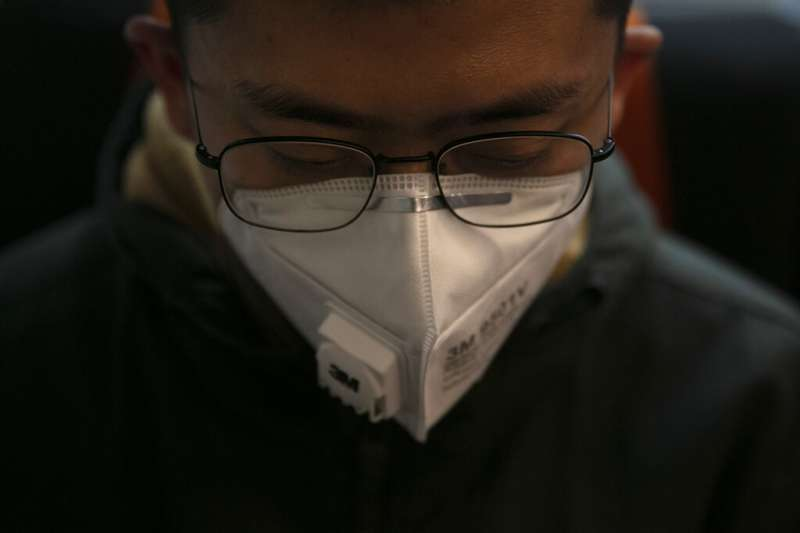Mask: (181, 12, 620, 438)
